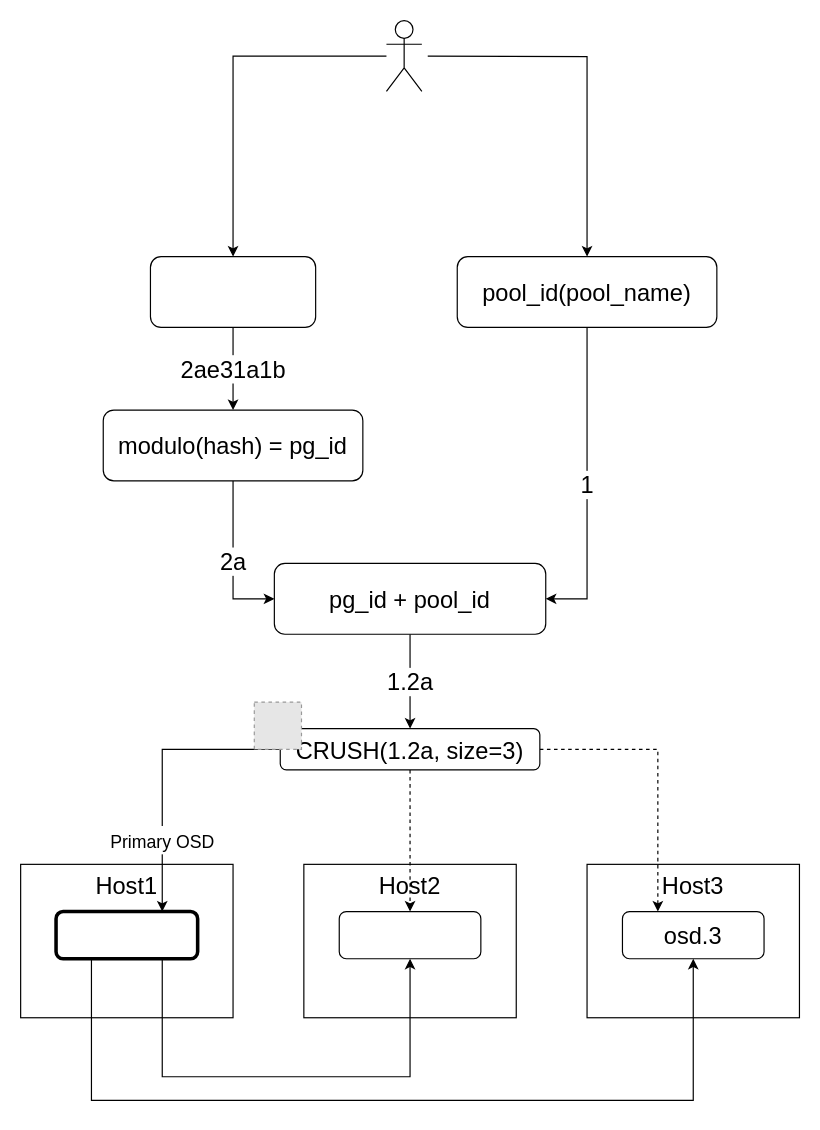
The diagram is 820 pixels wide and 1130 high, and some of its shapes have lost their labels. Grey dashed boxes stand in for pictures. The centre of each missing label's shape, as x and y in pixels:
Client obj_id + pool_name: (x=403, y=55)
hash(obj_id): (x=232, y=291)
osd.13: (x=126, y=934)
osd.8: (x=409, y=934)
